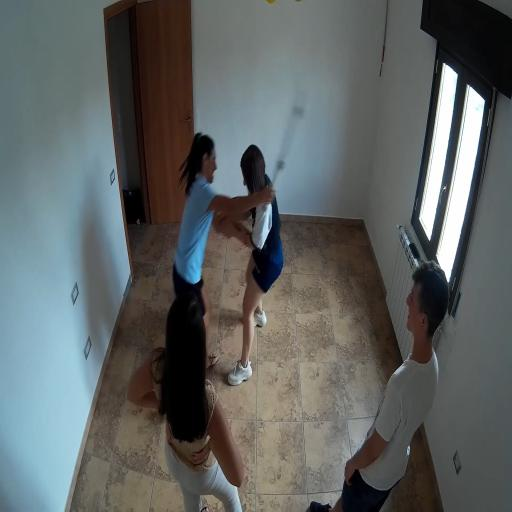violencia: (161, 76, 313, 394)
